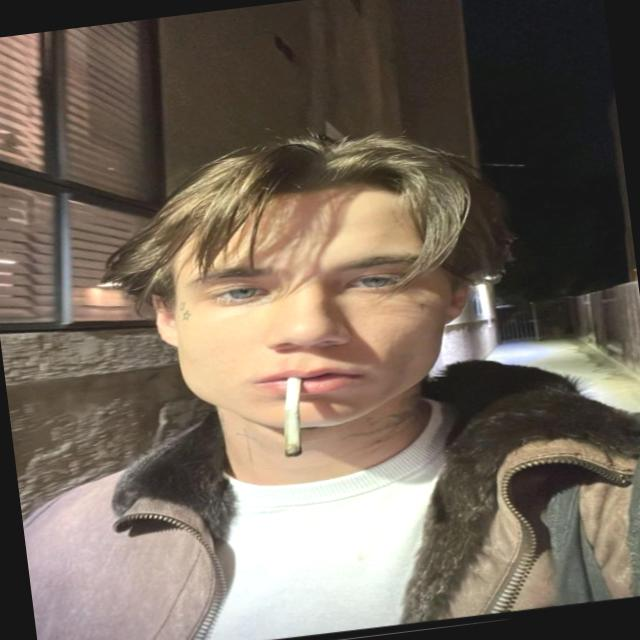smoke: (248, 356, 346, 479)
